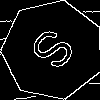S: (27, 25, 85, 80)
